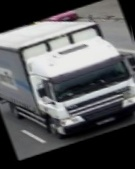truck: (0, 0, 135, 157)
